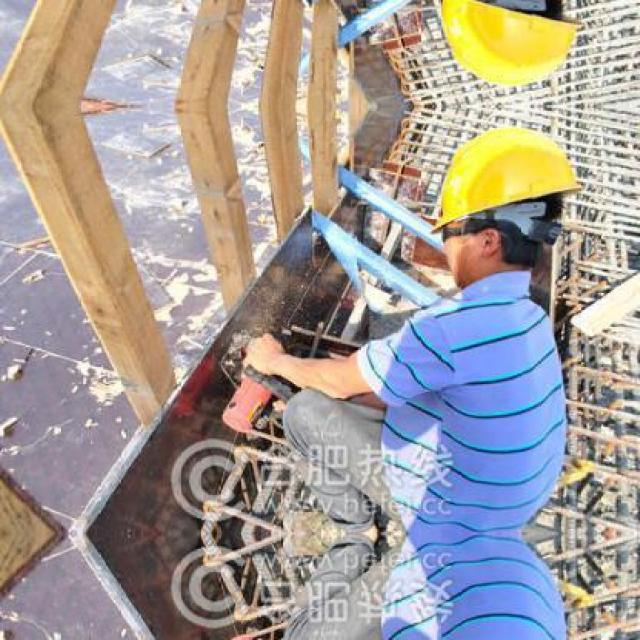helmet: (433, 125, 576, 290), (432, 0, 577, 88)
